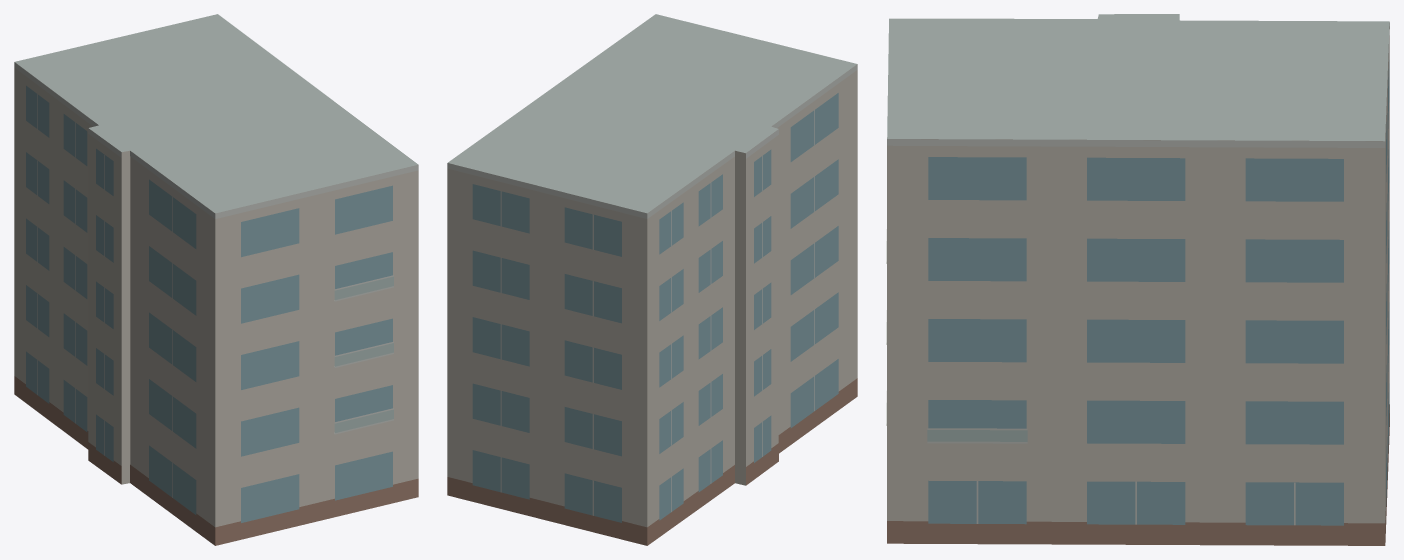
The model's file is survey-upis-32748697.glb.
The picture shows the model from 3 angles, left to right: view 1: azimuth 30°, elevation 25°; view 2: azimuth 150°, elevation 25°; view 3: azimuth 270°, elevation 25°; orthographic projection. The views are drawn at different scales.
Visible parts, largest first — view 1: survey-upis-32748697.tmp; view 2: survey-upis-32748697.tmp; view 3: survey-upis-32748697.tmp.
Boxes of the visible parts, x1=… form: survey-upis-32748697.tmp: x1=14, y1=14, x2=418, y2=545; survey-upis-32748697.tmp: x1=447, y1=14, x2=857, y2=545; survey-upis-32748697.tmp: x1=886, y1=14, x2=1389, y2=545.
Size of the model in its own units: 9.64 by 14.3 by 16.13.
